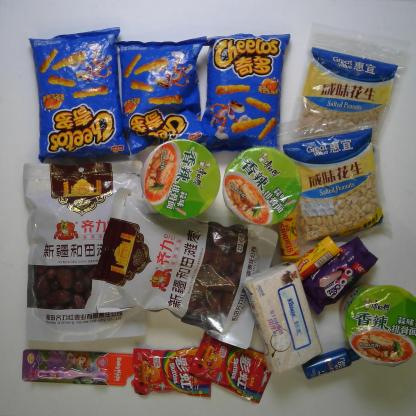Candy: (188, 328, 272, 403), (128, 345, 212, 397), (293, 236, 338, 285), (274, 205, 301, 258)
Dessert: (300, 238, 375, 312)
Dried Food: (86, 187, 278, 351), (22, 162, 153, 343)
Dried Fruit: (292, 23, 408, 153), (273, 113, 384, 236)
Instant Noodles: (141, 141, 220, 219), (223, 147, 302, 224), (345, 285, 416, 368)
Personal Hygiene: (21, 352, 142, 389), (302, 343, 365, 381)
Puffed Food: (28, 28, 130, 160), (112, 33, 206, 152), (197, 28, 280, 151)
Tissue: (244, 263, 322, 372)
